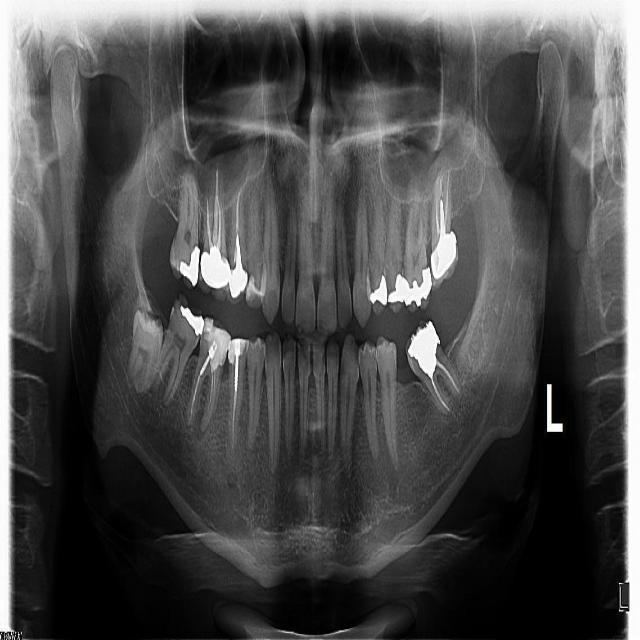Caries: (173, 297, 187, 314), (372, 351, 376, 364)
Crown: (197, 251, 231, 302), (430, 233, 458, 290), (227, 269, 248, 305)
Filling: (408, 320, 440, 378), (202, 316, 229, 372), (401, 269, 432, 305), (180, 246, 199, 288), (180, 305, 204, 336), (370, 273, 388, 306), (245, 276, 263, 304), (388, 273, 404, 304), (228, 337, 246, 364), (209, 245, 221, 269)
Periapical lesion: (192, 411, 214, 451)
Root Canal Treatment: (434, 359, 459, 395), (431, 375, 450, 411), (190, 375, 201, 424), (212, 165, 218, 246), (206, 197, 213, 248), (235, 188, 241, 239), (232, 390, 237, 449), (216, 196, 221, 248), (445, 173, 449, 229), (437, 199, 441, 238), (209, 373, 213, 412), (440, 178, 442, 194)
impacted tooth: (124, 309, 163, 392)
